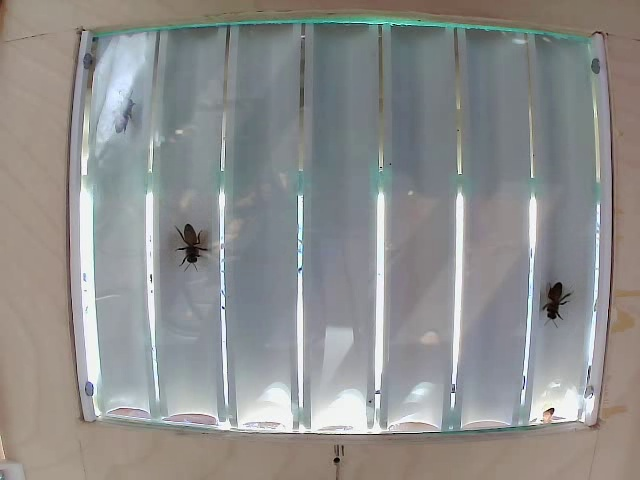bee: (103, 94, 147, 133), (169, 221, 209, 257), (533, 280, 562, 312)
